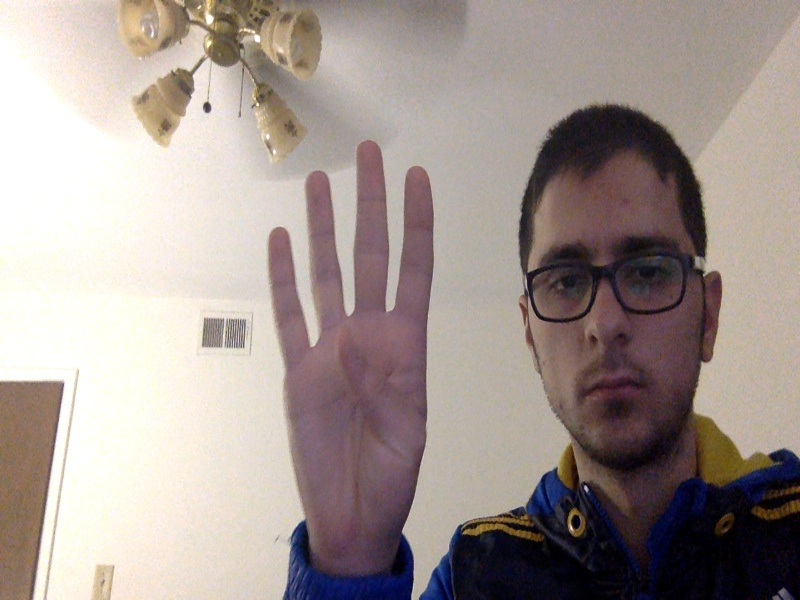4-hand: (265, 140, 429, 557)
